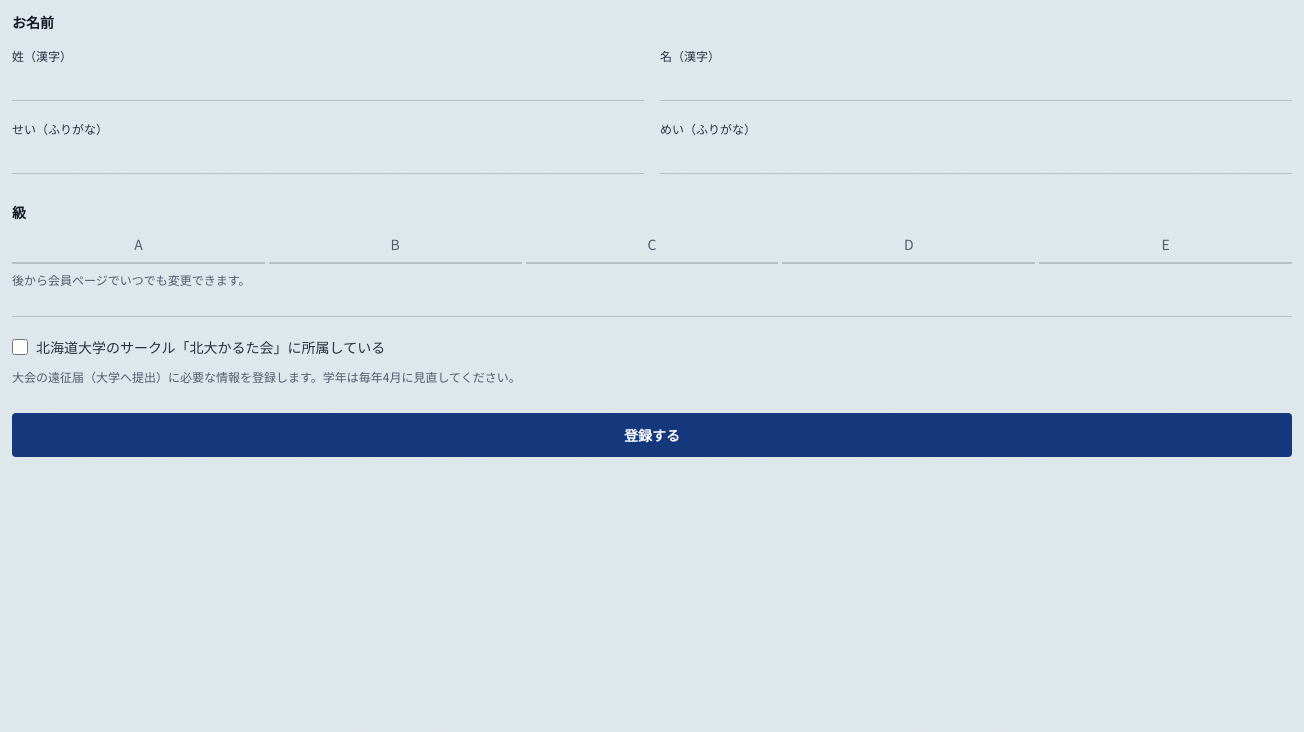
Test: RegisterForm › 級B/C: 全日協チェックは出るが段位は出ない
What coordinates should you click on to do the following:
click the radio button named "B級"
I would click on:
 (395, 247)
Its box is top-left (269, 230), bottom-right (522, 264).
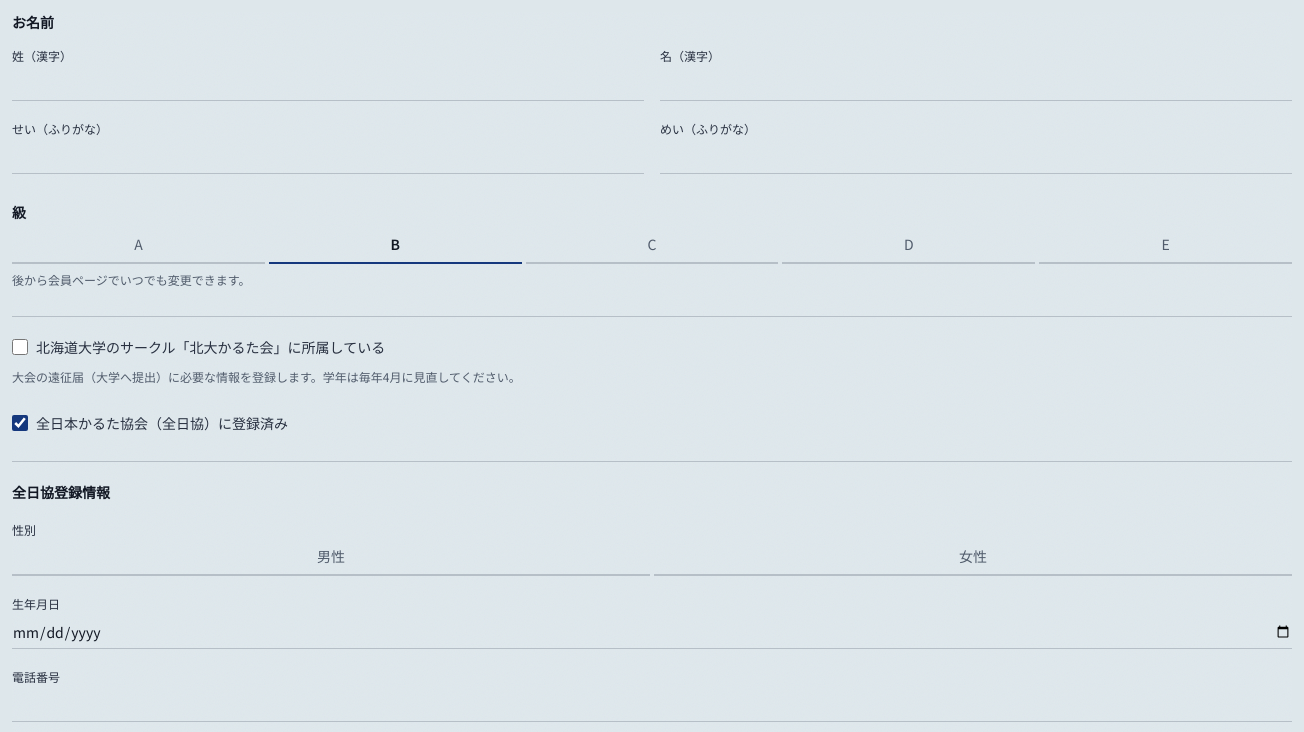
expect the text "全日本かるた協会（全日協）に登録済み" is shown: met, box top-left (12, 413), bottom-right (288, 433)
